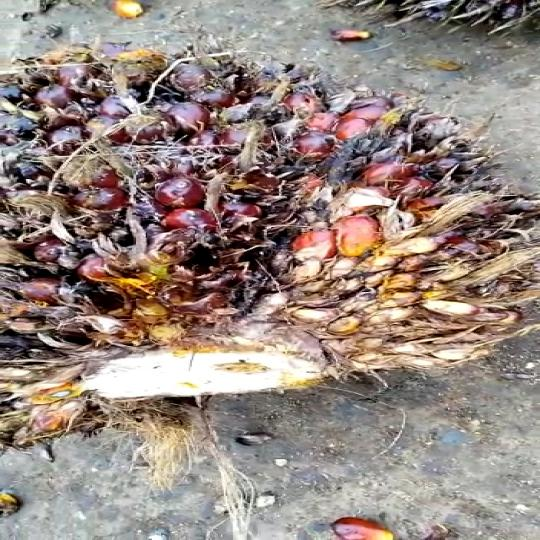masak: (0, 46, 540, 471)
